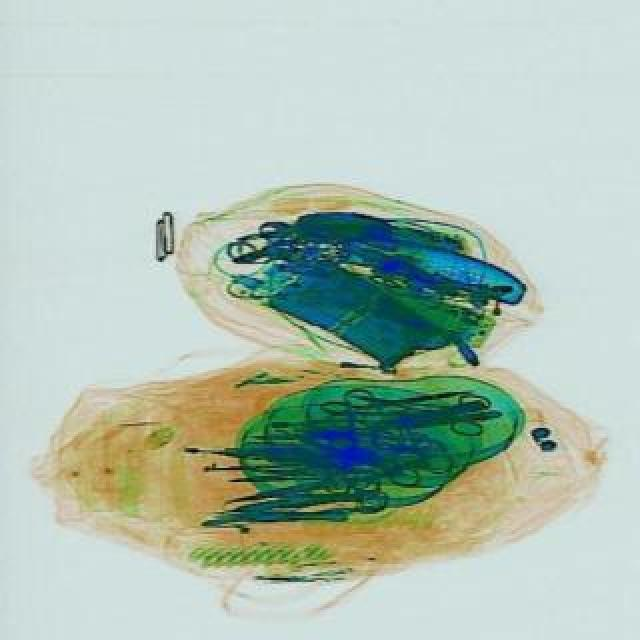pliers: (340, 374, 488, 438), (318, 378, 472, 412)
